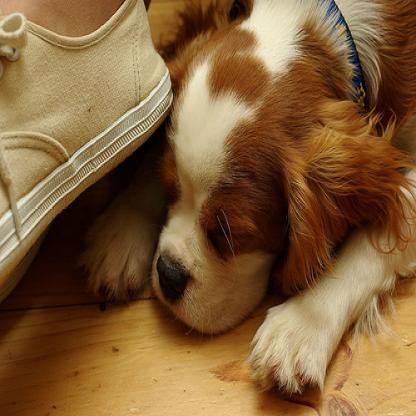dog: (78, 0, 415, 394)
